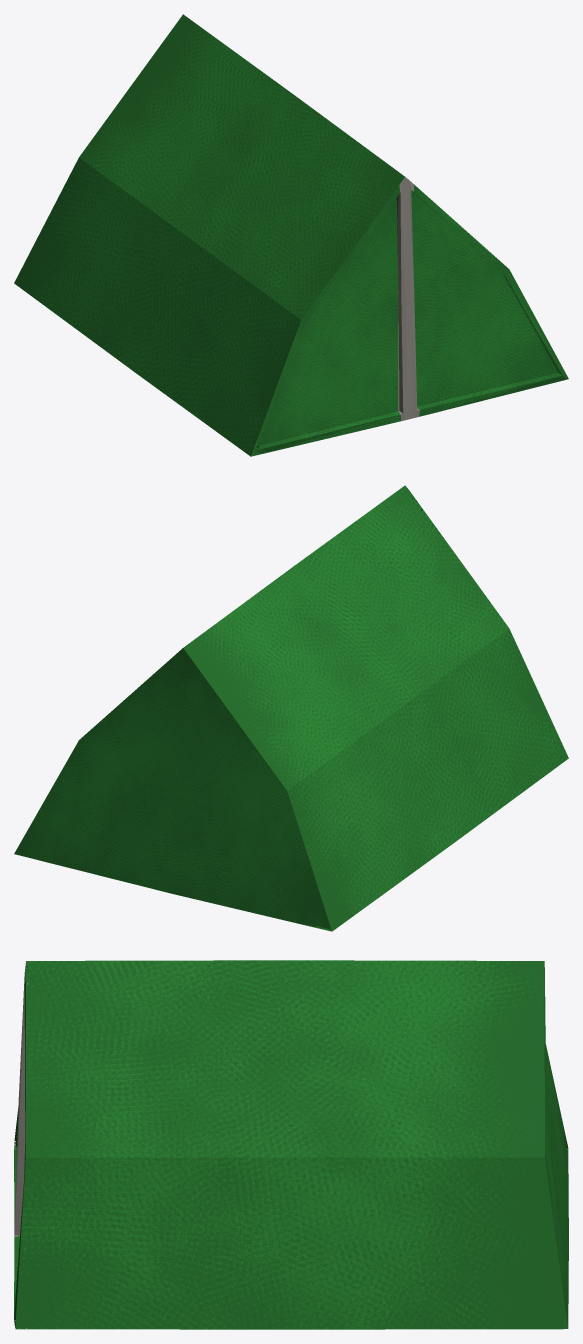
Rendered from Tent_Small_Closed.fbx.
3 views of the same model, one above another, from view 1: azimuth 30°, elevation 25°; view 2: azimuth 150°, elevation 25°; view 3: azimuth 270°, elevation 25° (orthographic). The views are drawn at different scales.
Parts seen in each view (by area): view 1: Tent_Small_Closed; view 2: Tent_Small_Closed; view 3: Tent_Small_Closed.
Part boxes in pixels (<box>): Tent_Small_Closed: <box>14,14,568,456</box>; Tent_Small_Closed: <box>14,485,568,931</box>; Tent_Small_Closed: <box>14,960,568,1329</box>.
Bounding box in the file's own units: 217 × 156 × 280.
